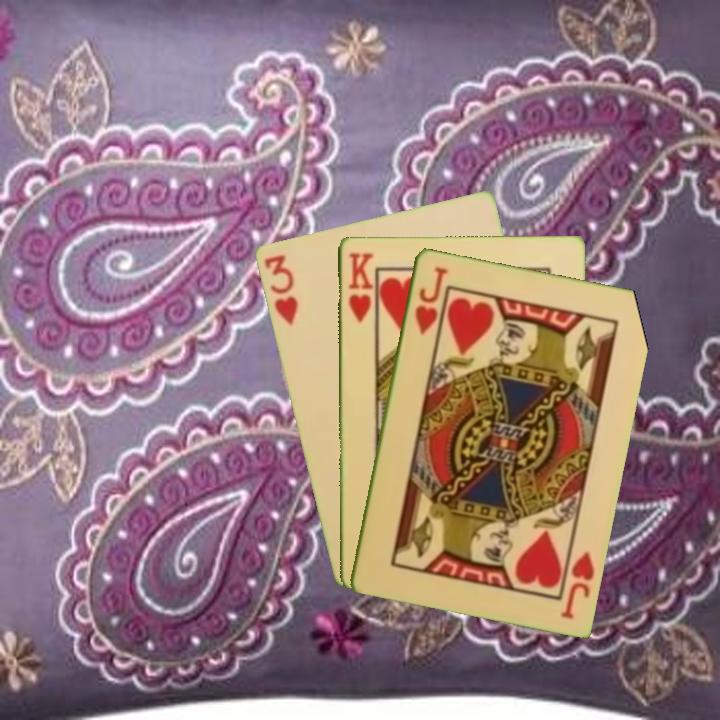3h: (260, 250, 301, 328)
Jh: (557, 540, 597, 621), (411, 262, 450, 337)
Kh: (344, 249, 375, 325)
